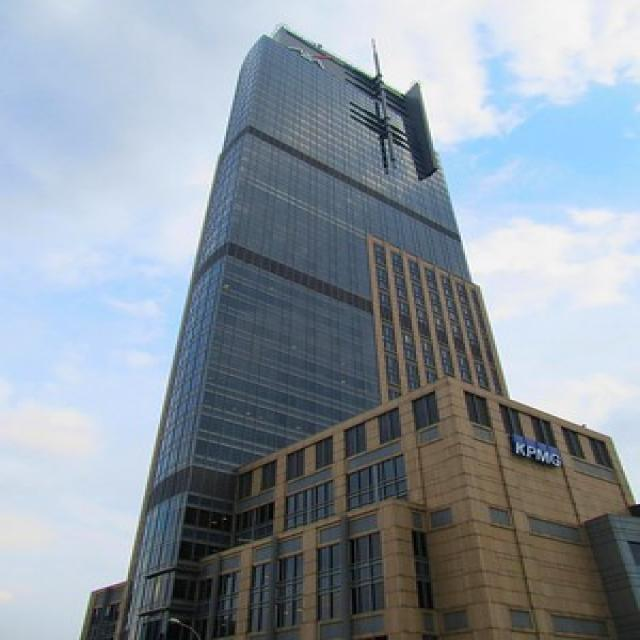Normal_building: (77, 14, 520, 637)
